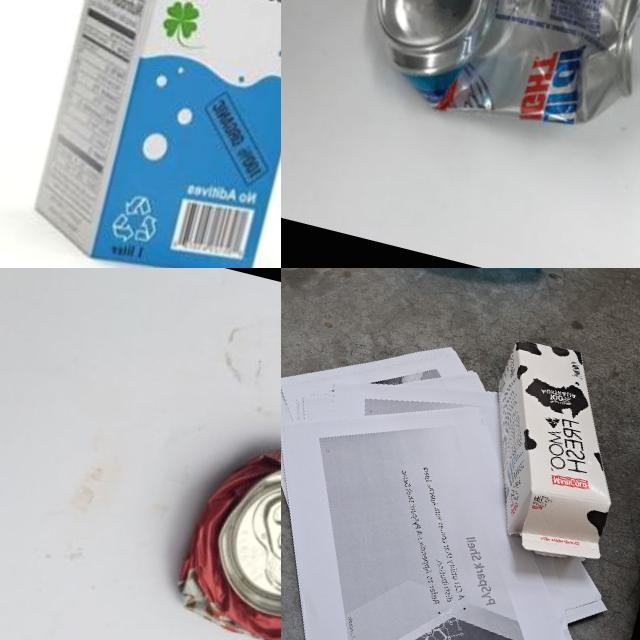aba de lata: (251, 476, 281, 569)
caixinha: (21, 0, 281, 268), (459, 331, 640, 569)
lata: (352, 0, 640, 152), (165, 425, 281, 640)
papel: (281, 307, 640, 640)
